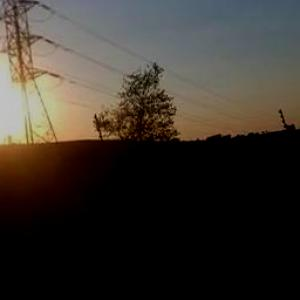follow: (140, 144, 216, 299)
